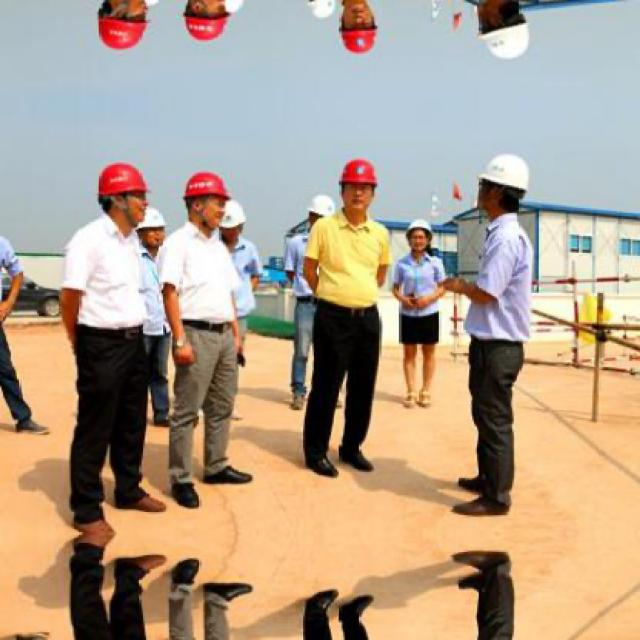helmet: (471, 145, 534, 224), (471, 0, 536, 69), (94, 159, 152, 230), (92, 0, 152, 56), (180, 168, 231, 231), (335, 151, 380, 216), (336, 0, 382, 63), (180, 0, 233, 46), (215, 200, 251, 248), (142, 203, 170, 250), (306, 194, 337, 228), (406, 218, 434, 255), (305, 0, 337, 20), (215, 0, 252, 14), (142, 0, 172, 11)
